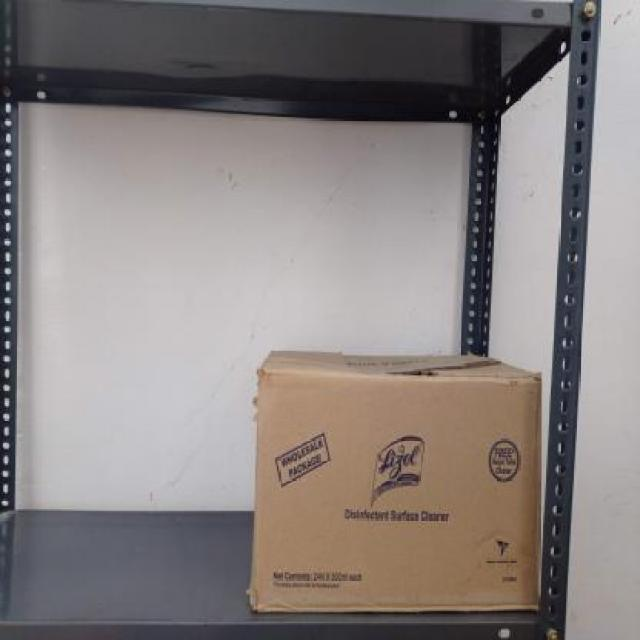box: (253, 368, 544, 614)
